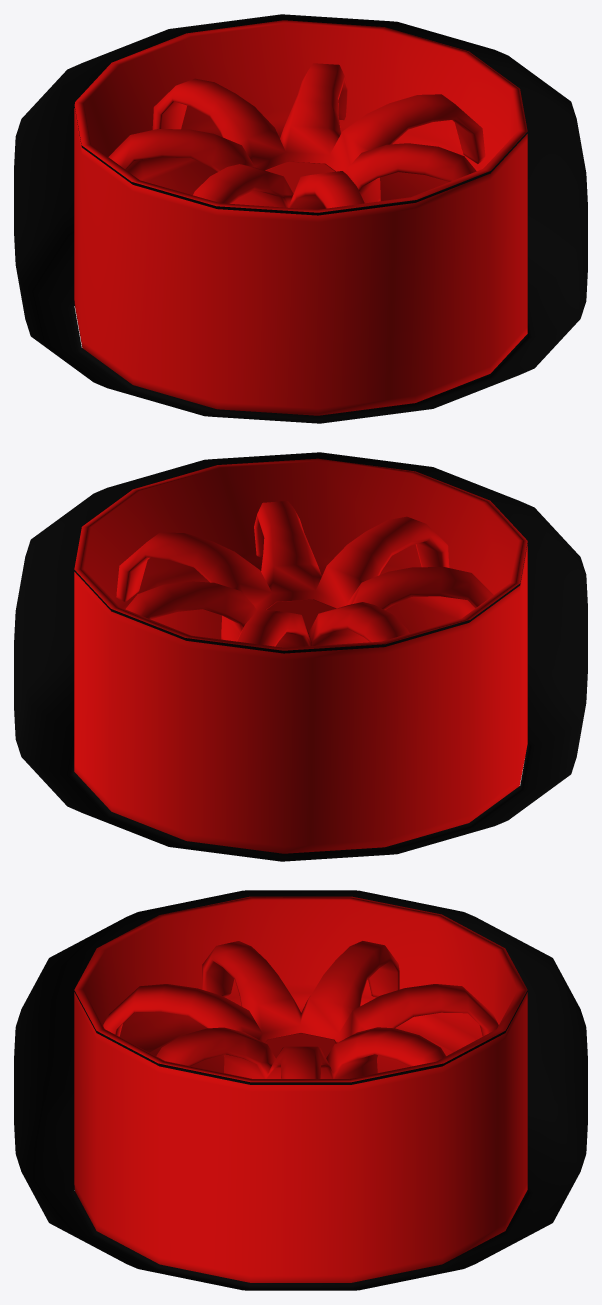
File: 350z_tire.obj
3 views of the same model, one above another, from view 1: azimuth 30°, elevation 25°; view 2: azimuth 150°, elevation 25°; view 3: azimuth 270°, elevation 25° (orthographic).
Bounding box in the file's own units: 0.6531 × 0.2643 × 0.6699.
